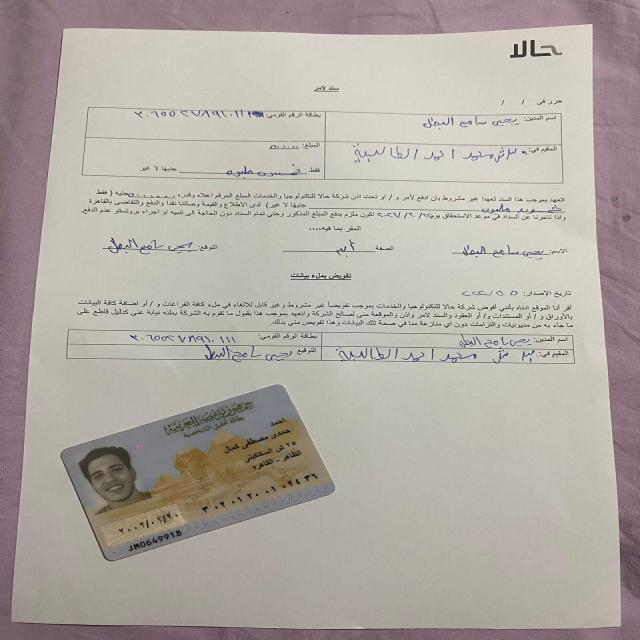id_card: (52, 377, 346, 570)
